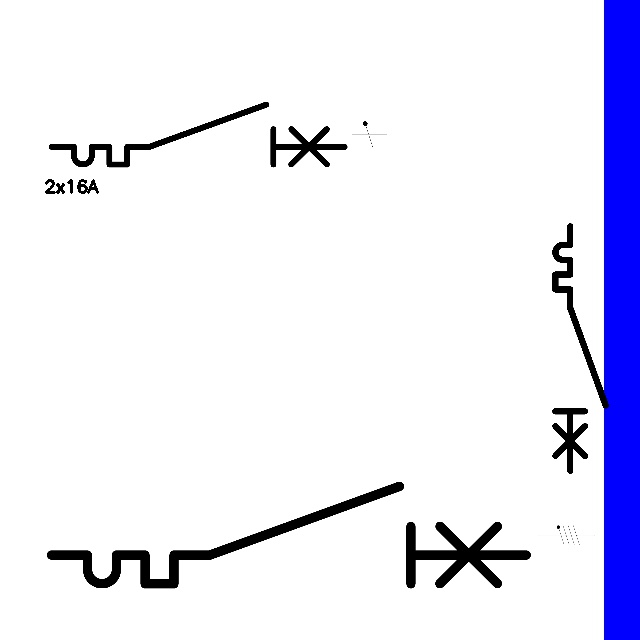interruptor_termomagnetico: (39, 474, 538, 596), (44, 97, 352, 172), (549, 220, 611, 477)
